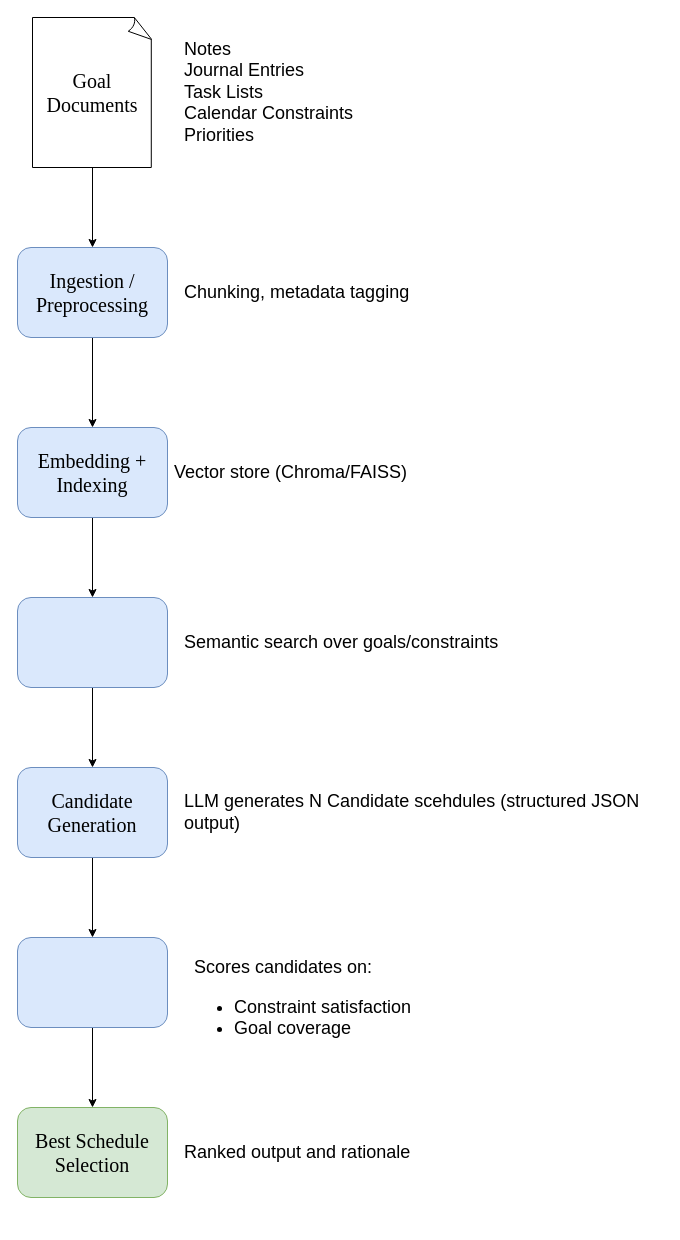
Image size: 680x1240. Some labels were removed from this diagram. Here are the shapes that lost their labels. From the top down, the centre of each, then its label:
point (92, 642): Retrieval
point (92, 982): Evaluation Layer
